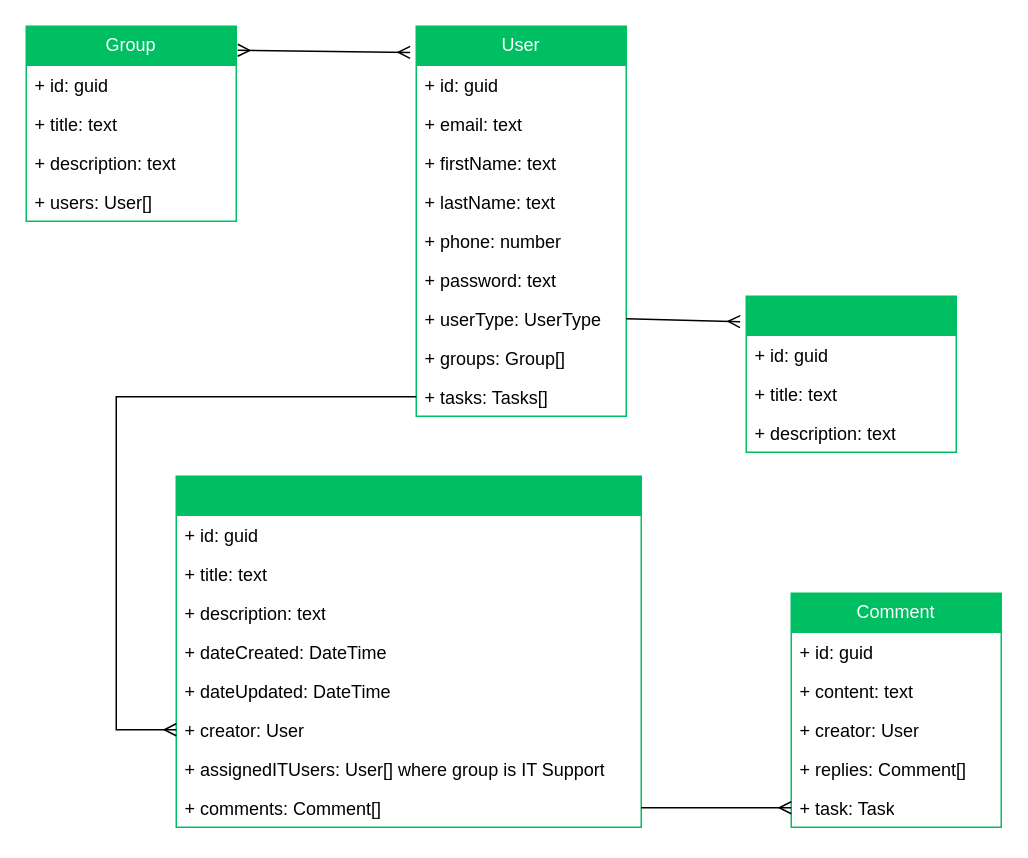
This 1028x858 diagram has some shape labels left out. The shapes that lost their labels are listed below. From the top down, each one's box as (x1, y1, x2, y2) in pixels, then its label:
(745, 295, 956, 452): UserType
(175, 475, 641, 827): Task
